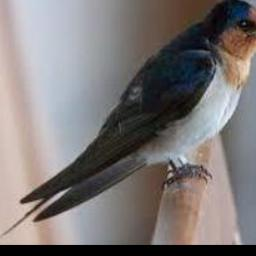Swallow: (0, 0, 256, 239)
